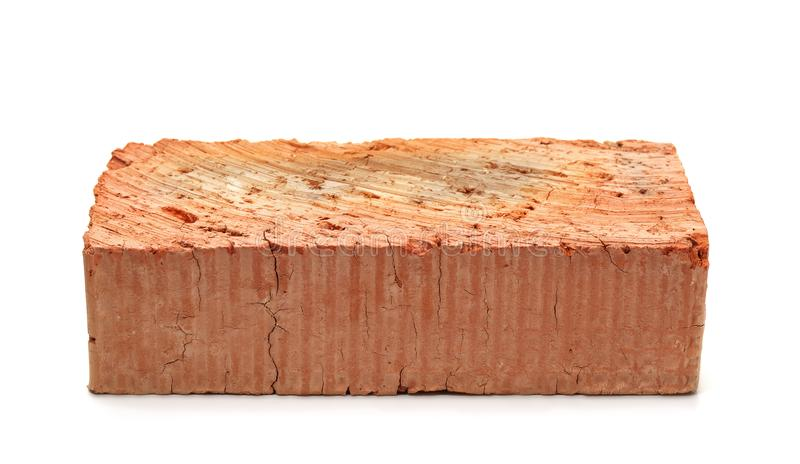brick: (94, 192, 700, 393)
